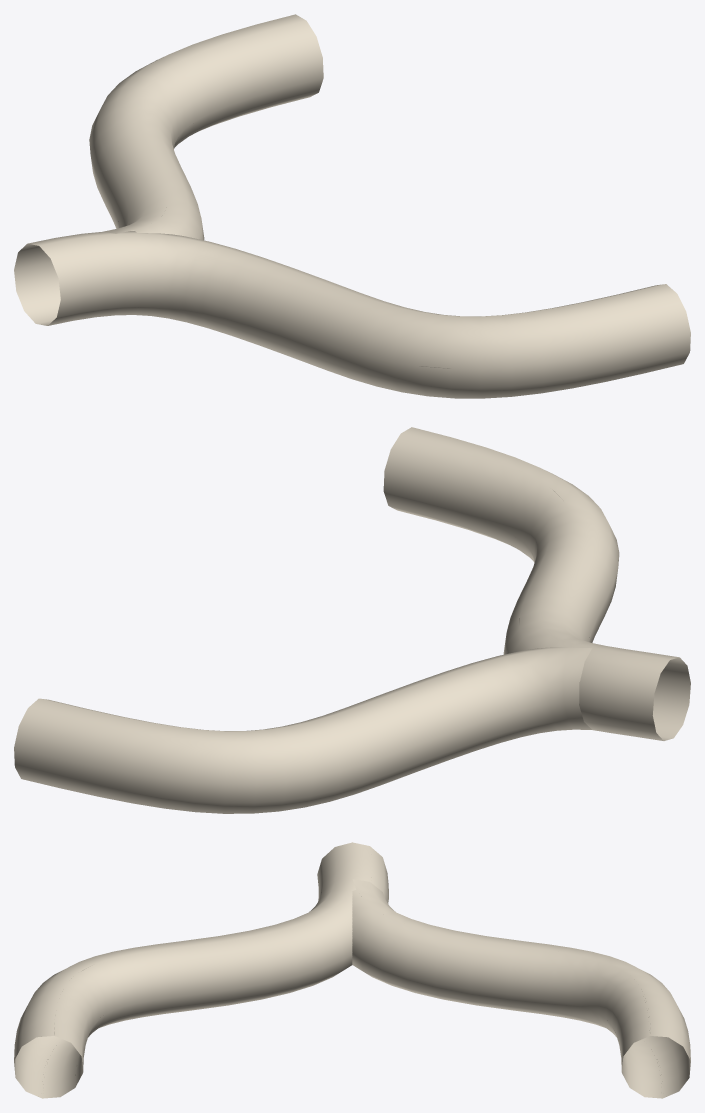
Rendered from wishbone.obj.
3 renders of one model, top to bottom at view 1: azimuth 30°, elevation 25°; view 2: azimuth 150°, elevation 25°; view 3: azimuth 270°, elevation 25°, orthographic. The views are drawn at different scales.
Parts seen in each view (by area): view 1: BezierCurve.002, BezierCurve.001; view 2: BezierCurve.001, BezierCurve.002; view 3: BezierCurve.002, BezierCurve.001.
Part boxes in pixels (x1=…): BezierCurve.002: x1=14, y1=231, x2=690, y2=398; BezierCurve.001: x1=89, y1=14, x2=323, y2=240; BezierCurve.001: x1=14, y1=647, x2=591, y2=813; BezierCurve.002: x1=383, y1=427, x2=690, y2=740; BezierCurve.002: x1=14, y1=842, x2=388, y2=1098; BezierCurve.001: x1=352, y1=879, x2=690, y2=1098.
Size of the model in its own units: 2.7 by 0.5722 by 4.24.
